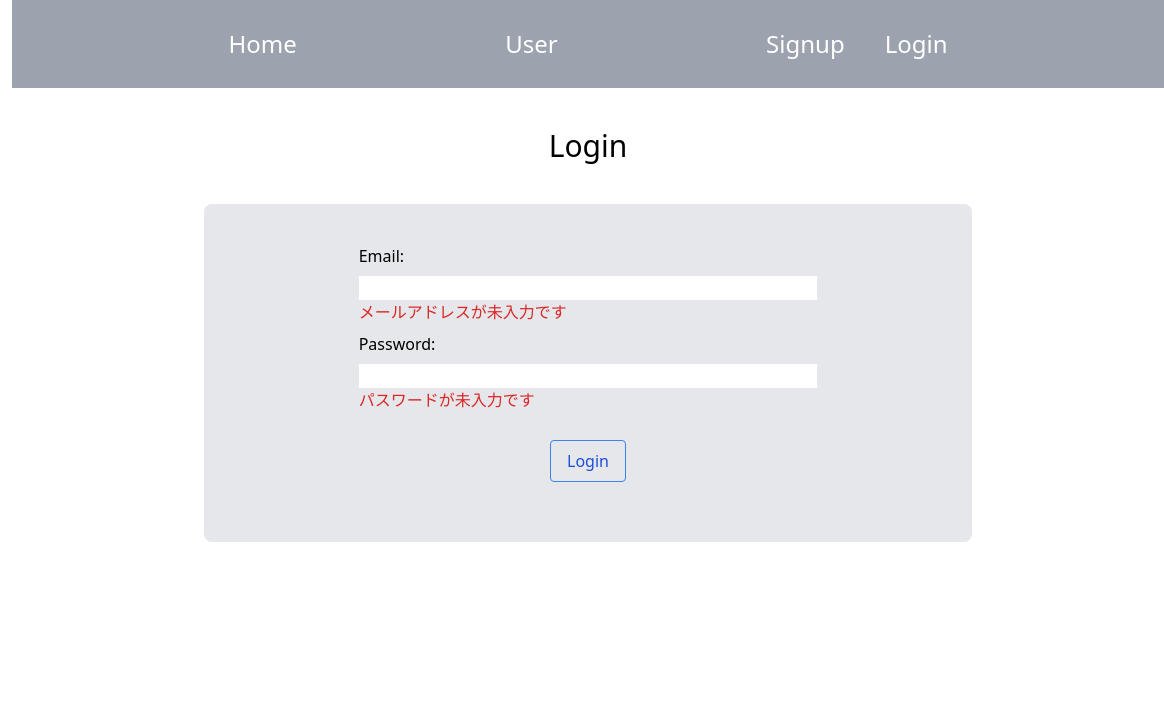
Test: Login › should display Users Page after successfully logged in
In the field labelled "Email:": (588, 288) [359, 276, 817, 300], type "01@test.io"
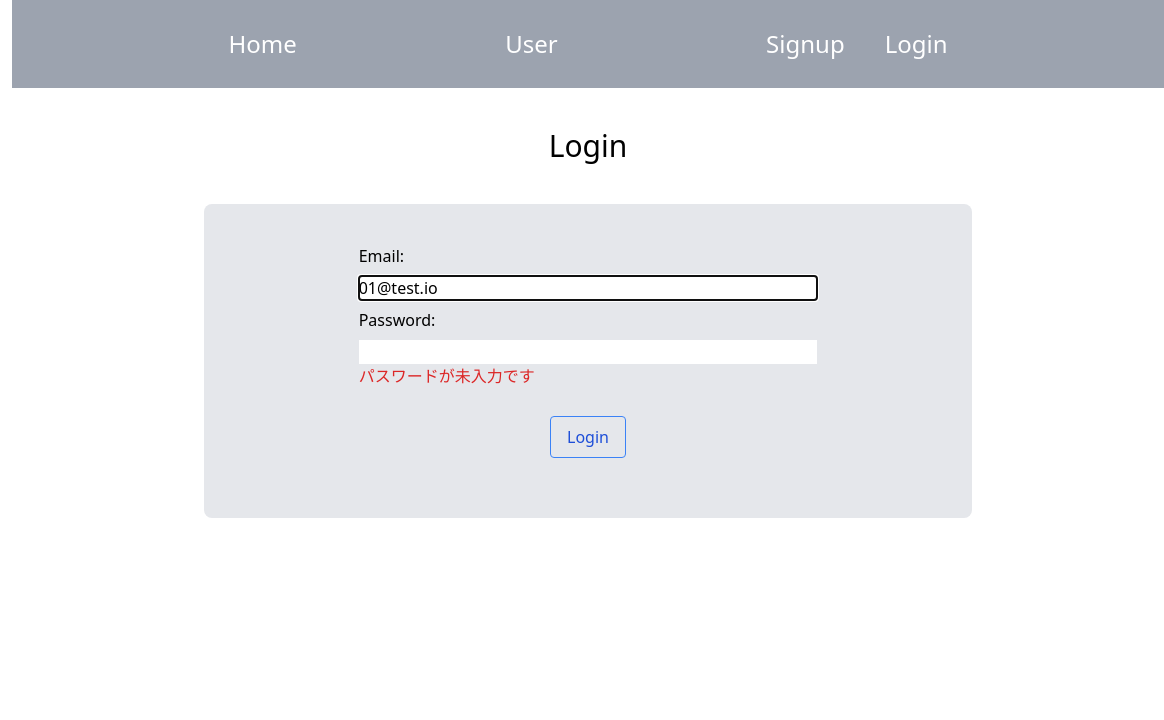
In the password field labelled "Password:": (588, 352) [359, 340, 817, 364], type "1234"
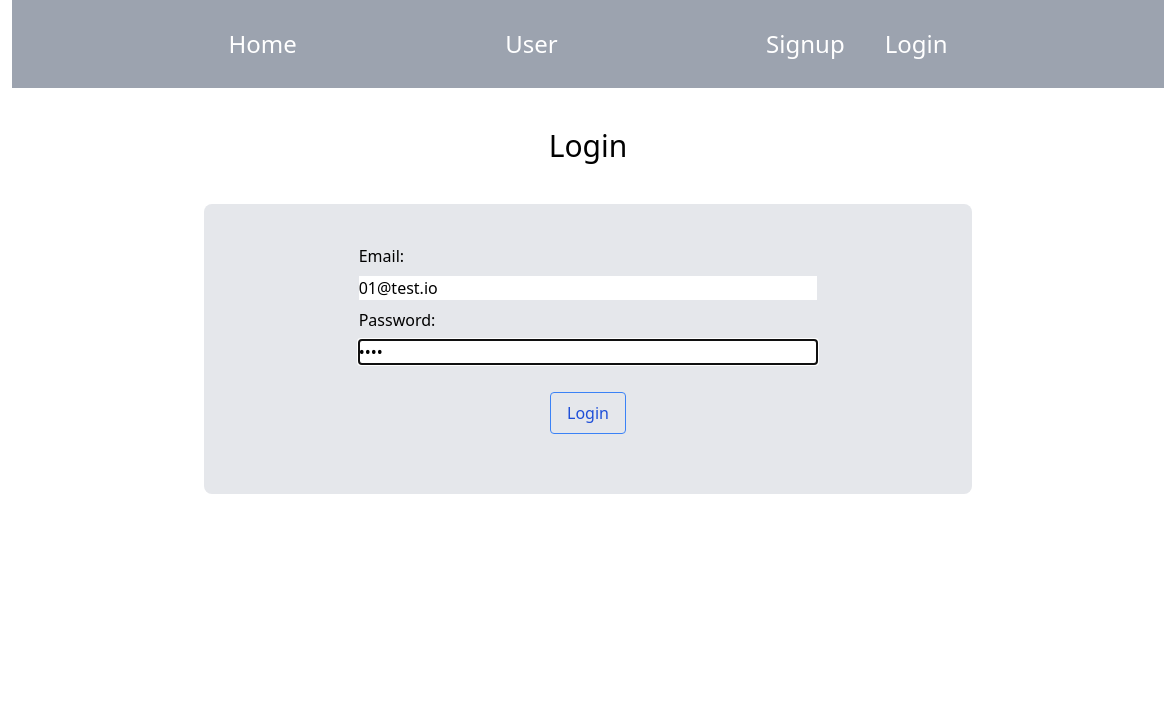
Click the button "Login": (588, 413) [550, 392, 626, 434]
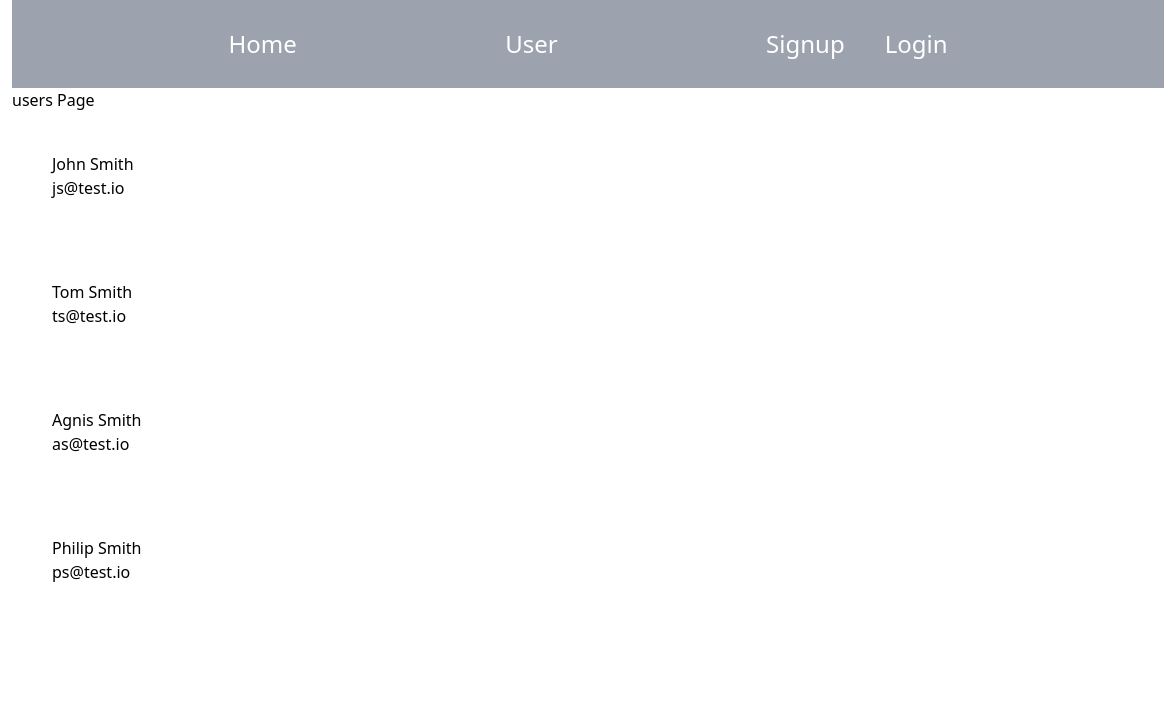
Expected: the element with test id "users-page" is shown, [12, 89, 142, 583]
